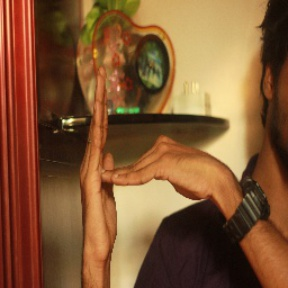Z: (76, 62, 219, 268)
